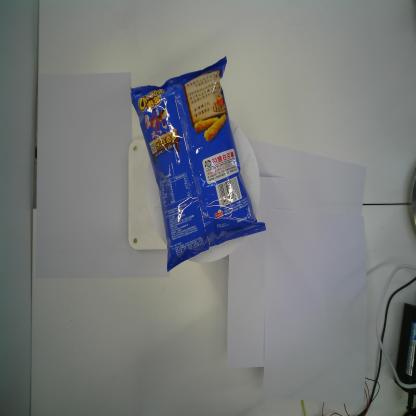Puffed Food: (128, 54, 266, 273)
